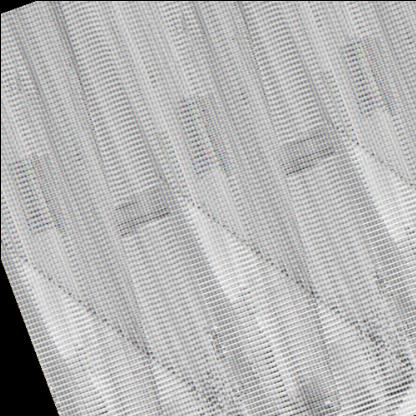Damage: (105, 108, 259, 242)
